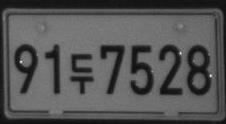1: (42, 43, 66, 94)
2: (157, 42, 183, 96)
5: (129, 43, 154, 96)
7: (99, 44, 125, 95)
8: (186, 43, 212, 96)
9: (13, 42, 38, 94)
두: (69, 52, 94, 94)
